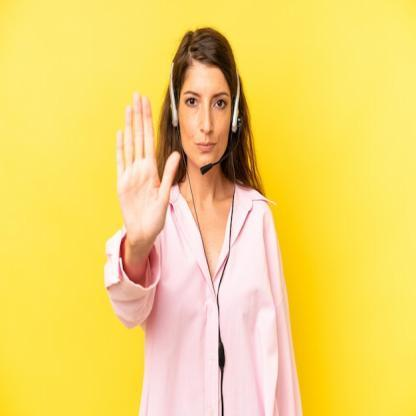stop: (113, 89, 182, 248)
